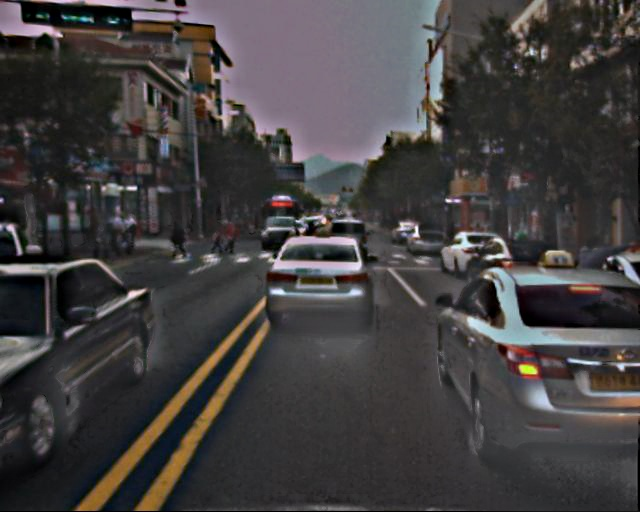person: (573, 234, 611, 326), (93, 207, 140, 249), (171, 217, 188, 258), (224, 221, 238, 254), (211, 230, 221, 254)
